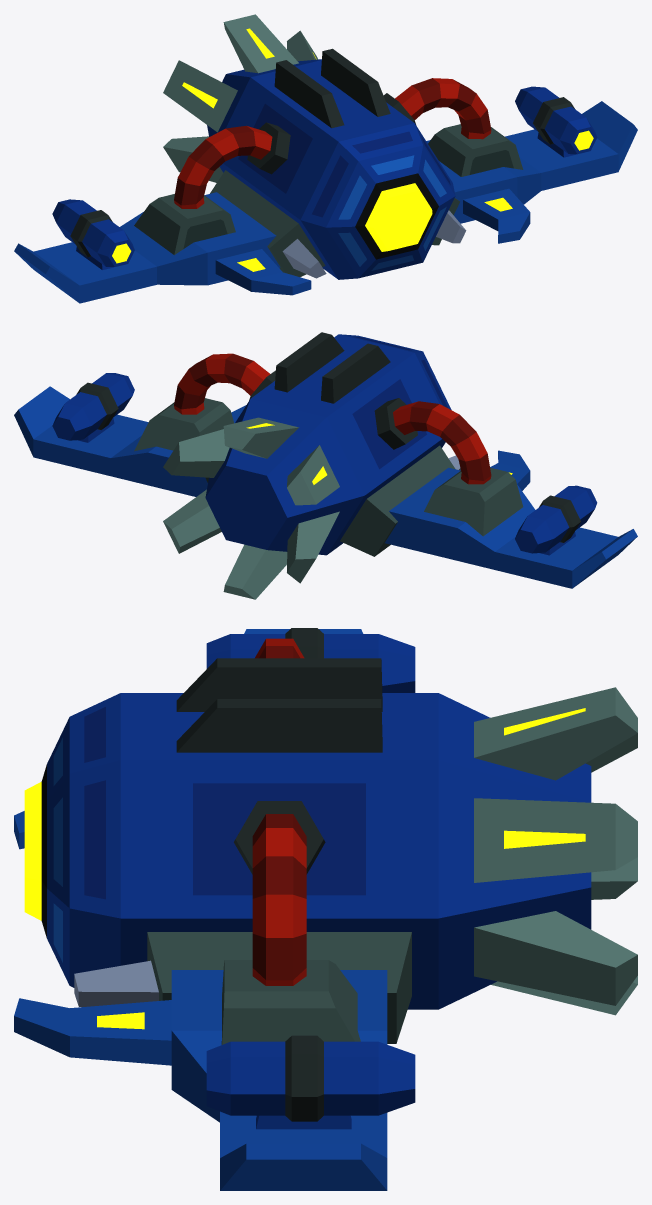
The model's file is enemy-boss-1.fbx.
The picture shows the model from 3 angles, top to bottom: view 1: azimuth 30°, elevation 25°; view 2: azimuth 150°, elevation 25°; view 3: azimuth 270°, elevation 25°; orthographic projection. The views are drawn at different scales.
Parts seen in each view (by area): view 1: Cylinder.010; view 2: Cylinder.010; view 3: Cylinder.010.
Boxes of the visible parts, box(x1,y1,x2,y2) form: Cylinder.010: box(14, 14, 637, 303); Cylinder.010: box(14, 332, 637, 599); Cylinder.010: box(14, 628, 637, 1190).
Bounding box in the file's own units: 777 × 221 × 392.
